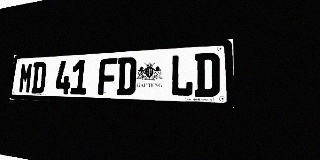1: (70, 59, 88, 95)
4: (55, 60, 72, 94)
D: (194, 52, 220, 97), (116, 57, 137, 96), (31, 62, 47, 94)
F: (98, 58, 117, 95)
L: (170, 54, 194, 97)
M: (18, 62, 33, 93)
